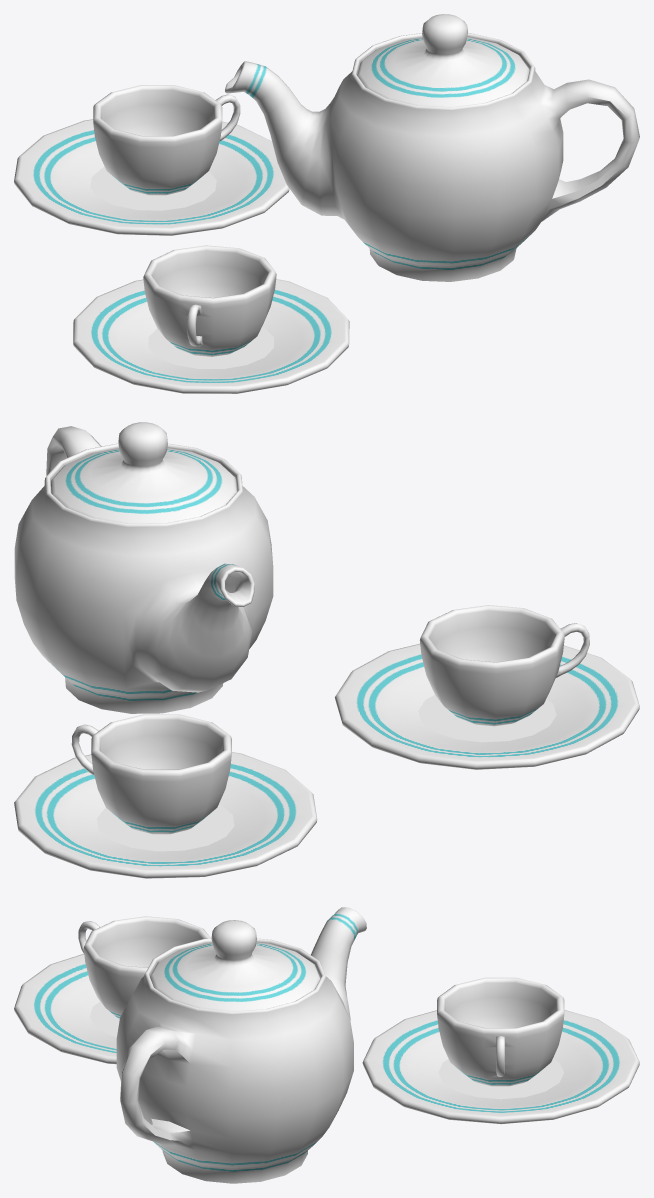
File: Prop_TeaSet.fbx
The picture shows the model from 3 angles, top to bottom: view 1: azimuth 30°, elevation 25°; view 2: azimuth 150°, elevation 25°; view 3: azimuth 270°, elevation 25°; orthographic projection. The views are drawn at different scales.
Parts seen in each view (by area): view 1: Prop_TeaSet; view 2: Prop_TeaSet; view 3: Prop_TeaSet.
Part boxes in pixels (x1=…): Prop_TeaSet: x1=14, y1=14, x2=639, y2=393; Prop_TeaSet: x1=14, y1=422, x2=639, y2=878; Prop_TeaSet: x1=14, y1=907, x2=639, y2=1183.
Bounding box in the file's own units: 0.7595 × 0.3148 × 0.7766.
